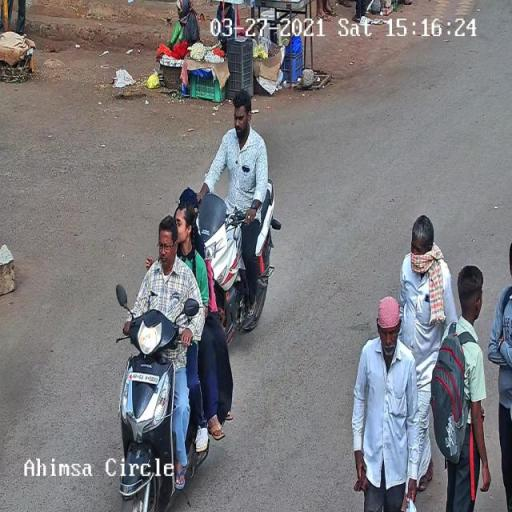tripple riding: (128, 183, 218, 325)
